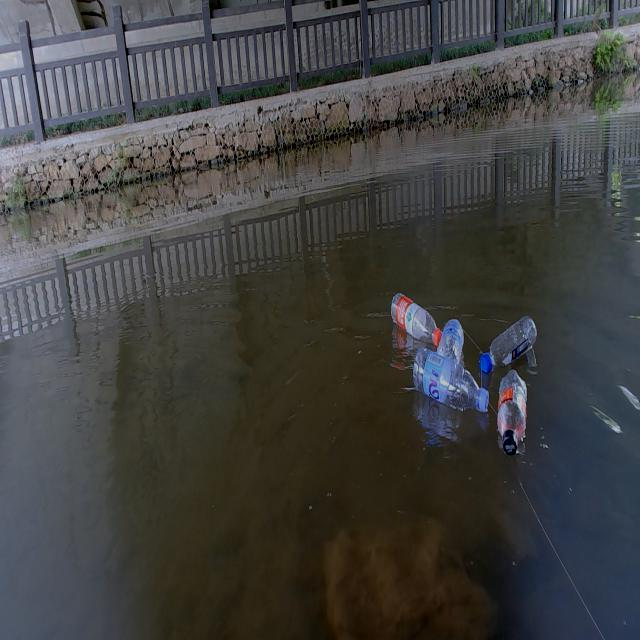bottle: (403, 348, 490, 416), (487, 366, 540, 456), (474, 310, 540, 376), (381, 284, 445, 350), (434, 312, 472, 358)
